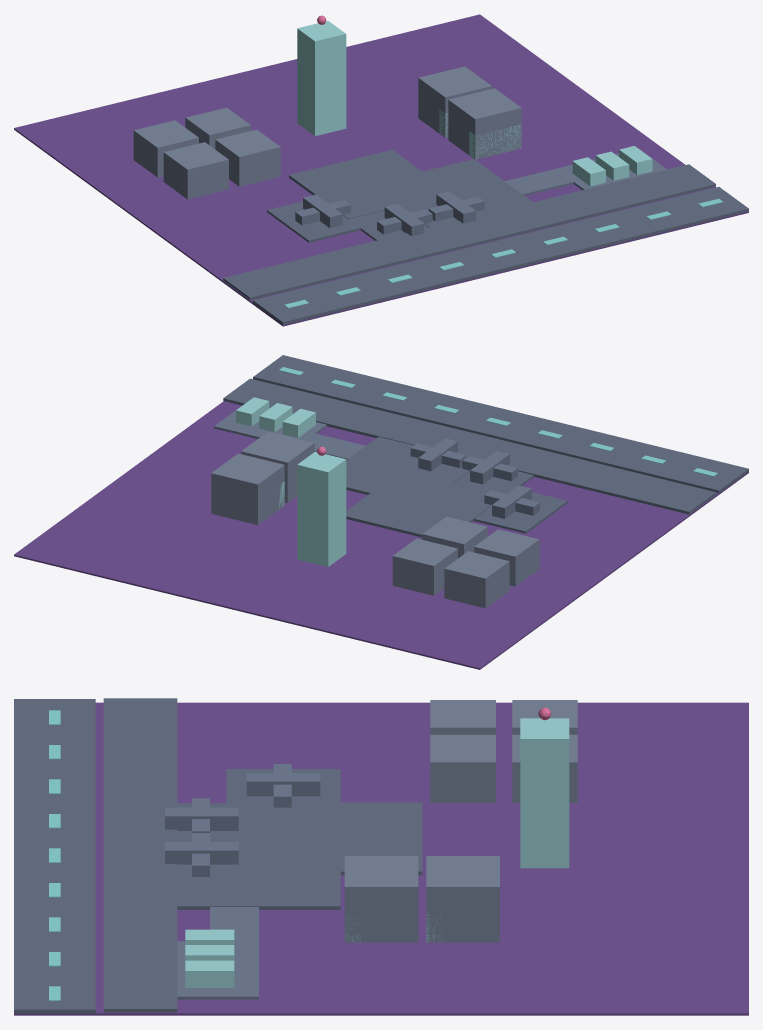
Rendered from stage_15.glb.
3 views of the same model, one above another, from view 1: azimuth 30°, elevation 25°; view 2: azimuth 150°, elevation 25°; view 3: azimuth 270°, elevation 25° (orthographic). The views are drawn at different scales.
Visible parts, largest first — view 1: geometry_0; view 2: geometry_0; view 3: geometry_0.
Boxes of the visible parts, x1,y1,x2,y2 form: geometry_0: (14,14,748,326); geometry_0: (14,355,748,669); geometry_0: (14,698,748,1015).
Size of the model in its own units: 9 by 2.06 by 9.
